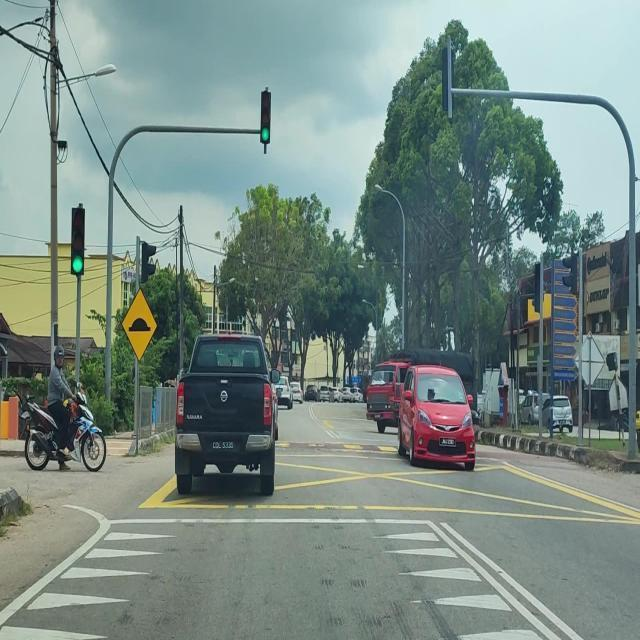green_light: (70, 207, 84, 275), (260, 90, 271, 143)
